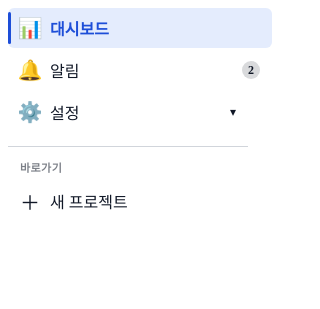
Test: TxSideNav — 하위메뉴 › 눌러서 펴고 다시 눌러서 접는다
Expected: the link "계정" is not shown
Click the button "⚙️ 설정 ▾".
click(128, 112)  # box [8,92,248,132]
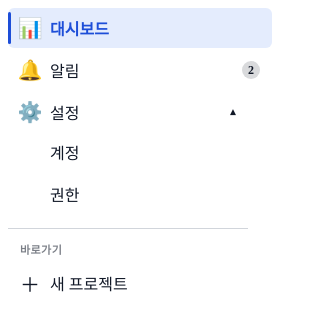
Now the link "계정" is shown, box [50,145,80,162]
Click the button "⚙️ 설정 ▾".
click(128, 112)  # box [8,92,248,132]
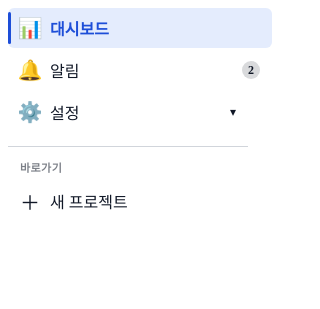
Now the link "계정" is gone
